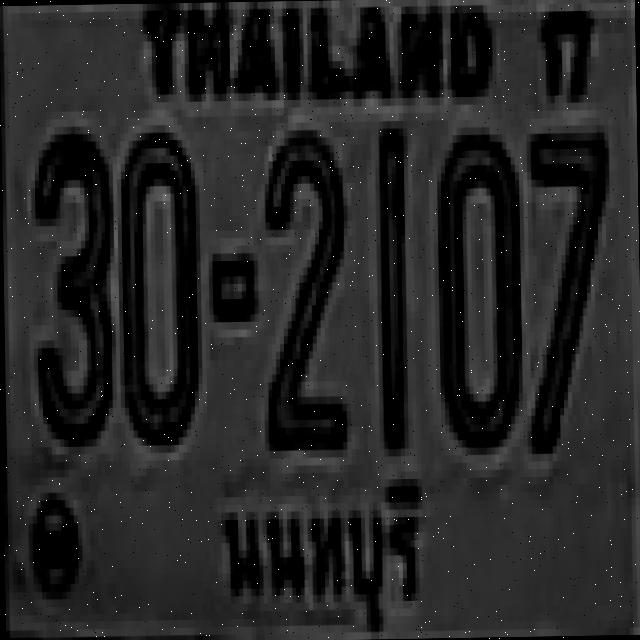0: (432, 126, 520, 448), (116, 124, 200, 446)
1: (374, 120, 408, 448)
2: (259, 126, 347, 447)
3: (30, 126, 113, 440)
7: (522, 124, 610, 446)
Nonthaburi: (212, 474, 434, 630)
